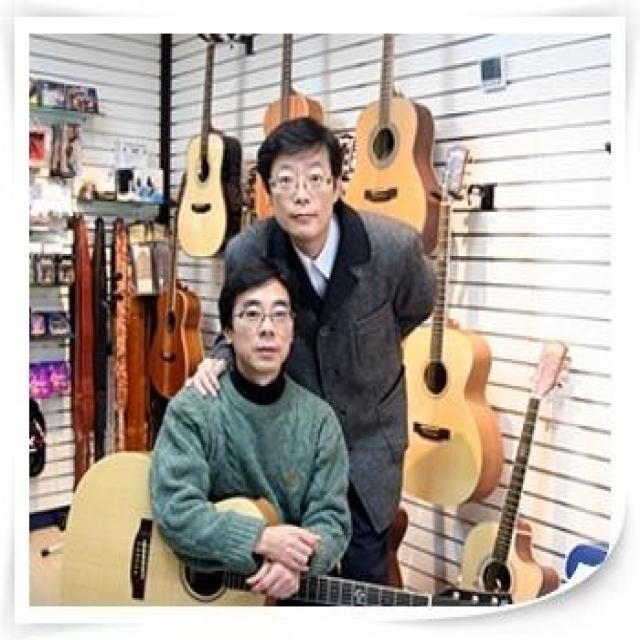guitar: (58, 447, 515, 640), (385, 142, 505, 504), (459, 337, 573, 604), (346, 32, 444, 250), (178, 30, 244, 257), (144, 172, 205, 403), (252, 32, 324, 220)
